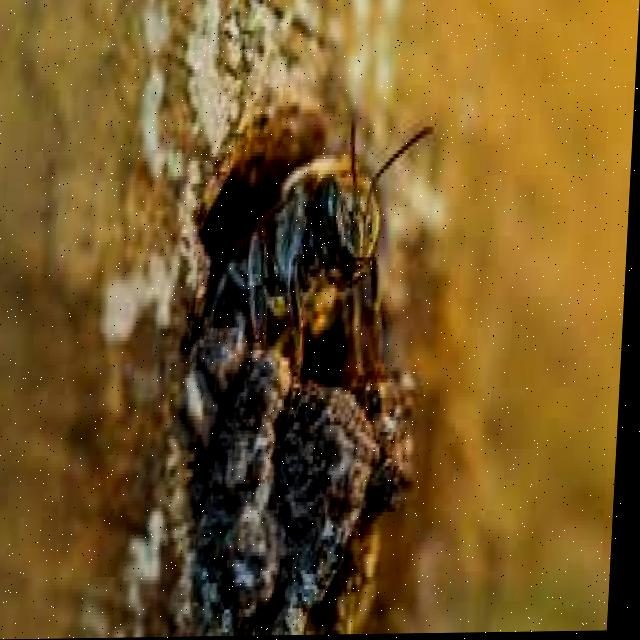Meliponula: (194, 110, 417, 365)
